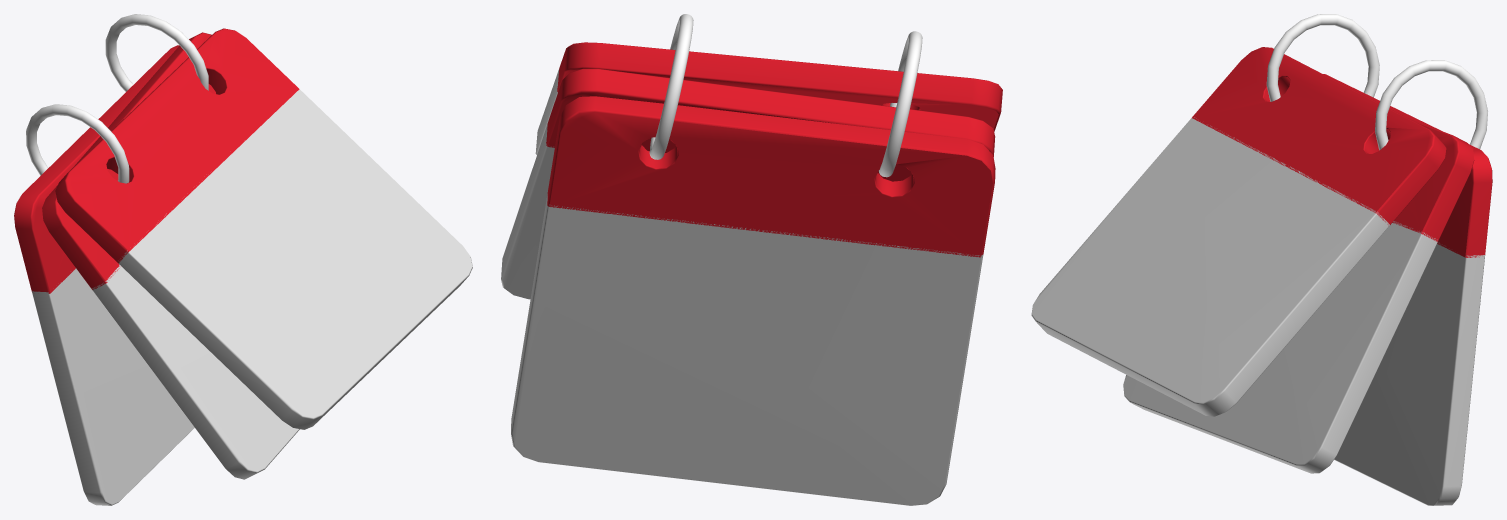
The model's file is calender.glb.
3 renders of one model, left to right at view 1: azimuth 30°, elevation 25°; view 2: azimuth 150°, elevation 25°; view 3: azimuth 270°, elevation 25°, orthographic. The views are drawn at different scales.
Visible parts, largest first — view 1: polySurface6.002, polySurface5.002, polySurface6.001, polySurface6, polySurface5.001, polySurface5, pTorus1.001, pTorus1; view 2: polySurface6.001, polySurface5.001, polySurface5.002, polySurface5, polySurface6, pTorus1, pTorus1.001; view 3: polySurface6.002, polySurface6, polySurface6.001, polySurface5.002, polySurface5, polySurface5.001, pTorus1.001, pTorus1.
Boxes of the visible parts, <box> form: polySurface6.002: <box>118,89,472,429</box>; polySurface5.002: <box>55,28,299,263</box>; polySurface6.001: <box>32,268,194,505</box>; polySurface6: <box>92,265,299,479</box>; polySurface5.001: <box>14,45,179,293</box>; polySurface5: <box>42,32,215,289</box>; pTorus1.001: <box>105,14,208,91</box>; pTorus1: <box>26,104,129,183</box>; polySurface6.001: <box>511,194,983,505</box>; polySurface5.001: <box>547,96,995,257</box>; polySurface5.002: <box>557,42,1002,131</box>; polySurface5: <box>546,68,995,181</box>; polySurface6: <box>501,124,554,299</box>; pTorus1: <box>879,31,922,177</box>; pTorus1.001: <box>649,14,693,159</box>; polySurface6.002: <box>1031,117,1389,416</box>; polySurface6: <box>1123,221,1437,473</box>; polySurface6.001: <box>1334,242,1485,505</box>; polySurface5.002: <box>1192,47,1446,225</box>; polySurface5: <box>1392,119,1474,241</box>; polySurface5.001: <box>1323,74,1492,257</box>; pTorus1.001: <box>1375,60,1487,150</box>; pTorus1: <box>1266,14,1379,101</box>.
Size of the model in its own units: 1.34 by 1.28 by 1.26.
